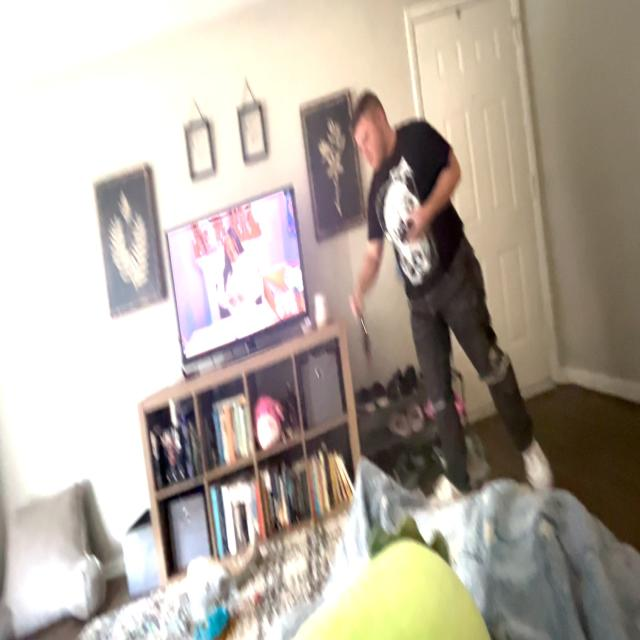drone: (348, 288, 376, 369)
